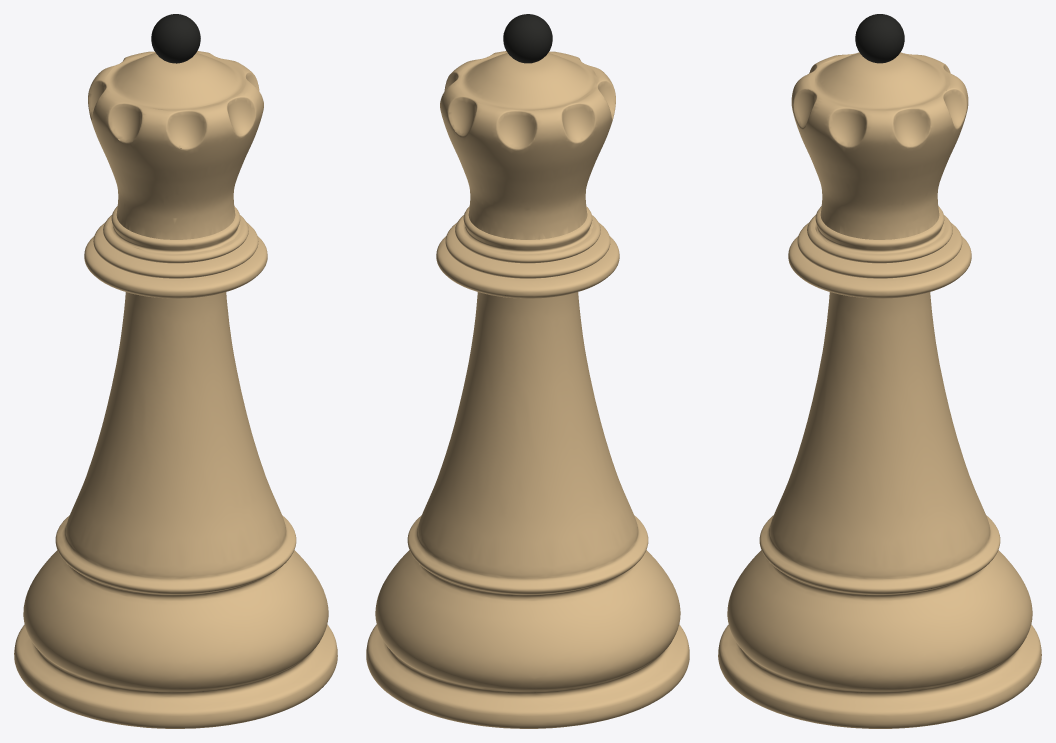
Rendered from queen.glb.
The picture shows the model from 3 angles, left to right: view 1: azimuth 30°, elevation 25°; view 2: azimuth 150°, elevation 25°; view 3: azimuth 270°, elevation 25°; orthographic projection.
Visible parts, largest first — view 1: Queen.002; view 2: Queen.002; view 3: Queen.002.
Part boxes in pixels (bbox=[...]): Queen.002: bbox=[14, 14, 337, 728]; Queen.002: bbox=[366, 14, 689, 728]; Queen.002: bbox=[718, 14, 1041, 728].
Bounding box in the file's own units: 0.0392 × 0.0875 × 0.0392.
